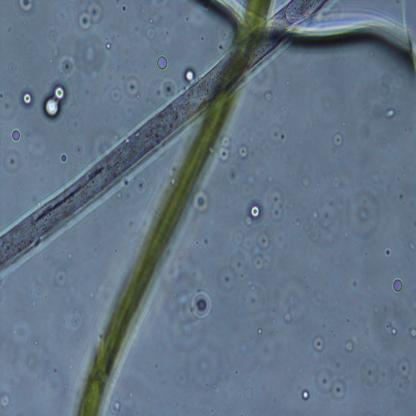Air bubble: (306, 0, 416, 63)
Background material: (163, 266, 201, 347), (305, 198, 344, 242), (348, 186, 382, 236), (186, 346, 223, 388), (216, 252, 248, 291), (313, 366, 349, 400), (76, 33, 105, 73), (390, 352, 416, 396), (40, 83, 67, 122), (190, 285, 216, 322), (79, 0, 109, 30), (90, 126, 121, 153), (360, 355, 383, 390), (268, 183, 288, 223), (0, 83, 21, 119), (63, 299, 84, 331), (143, 73, 166, 101), (230, 228, 256, 250), (125, 70, 141, 103), (15, 83, 36, 107), (54, 6, 77, 26), (247, 251, 267, 272), (194, 186, 209, 213), (4, 149, 22, 171), (378, 73, 393, 96), (133, 174, 150, 194), (161, 77, 177, 98), (0, 387, 14, 410), (310, 332, 326, 352), (58, 60, 74, 80), (255, 231, 270, 251), (250, 199, 262, 223), (330, 127, 344, 146), (182, 65, 196, 82), (56, 270, 69, 288), (20, 0, 35, 15), (227, 166, 241, 182), (382, 322, 398, 336), (143, 26, 157, 42), (71, 140, 84, 156), (220, 144, 232, 161), (236, 142, 247, 160), (11, 127, 23, 143), (49, 27, 60, 44), (384, 108, 397, 122), (344, 337, 356, 352), (392, 278, 404, 293), (300, 172, 311, 188), (243, 386, 255, 400), (281, 309, 292, 323), (110, 87, 121, 101), (299, 388, 311, 400), (158, 56, 168, 70), (396, 190, 407, 202), (59, 152, 68, 166), (200, 234, 211, 245), (103, 39, 114, 50), (333, 173, 341, 188), (112, 400, 122, 412), (394, 171, 402, 184), (408, 328, 416, 338), (384, 248, 392, 256), (182, 14, 190, 22), (218, 42, 226, 50), (256, 326, 264, 334), (66, 250, 73, 258), (352, 278, 357, 288), (246, 216, 251, 226), (409, 242, 415, 250), (199, 34, 205, 42), (114, 245, 119, 254), (148, 16, 154, 23), (345, 316, 350, 324), (122, 4, 127, 12), (413, 220, 416, 228), (136, 6, 140, 8), (106, 39, 109, 40)
Microfibre: (0, 0, 327, 320), (74, 1, 272, 415)
